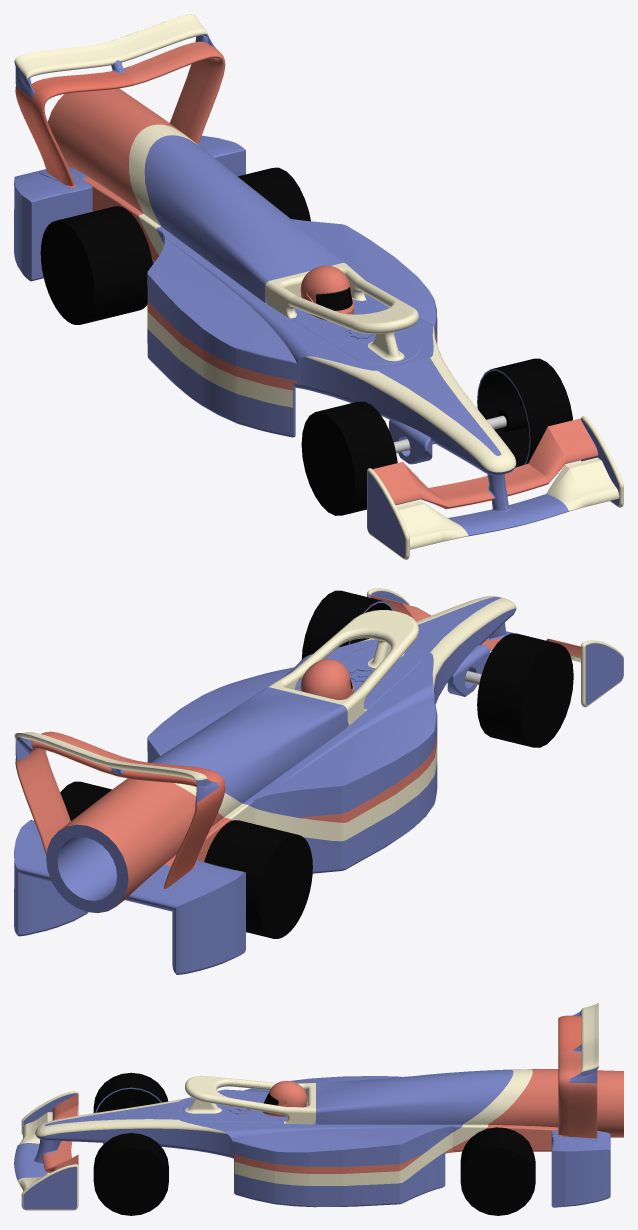
File: Kafur.glb
The picture shows the model from 3 angles, top to bottom: view 1: azimuth 30°, elevation 25°; view 2: azimuth 150°, elevation 25°; view 3: azimuth 270°, elevation 25°; orthographic projection. The views are drawn at different scales.
Visible parts, largest first — view 1: coche+pintado.001; view 2: coche+pintado.001; view 3: coche+pintado.001.
Part boxes in pixels (x1,y1,x2,y2): coche+pintado.001: (14, 14, 623, 559); coche+pintado.001: (14, 588, 623, 974); coche+pintado.001: (14, 1003, 623, 1215).
Bounding box in the file's own units: 11.5 × 10.44 × 39.51.
